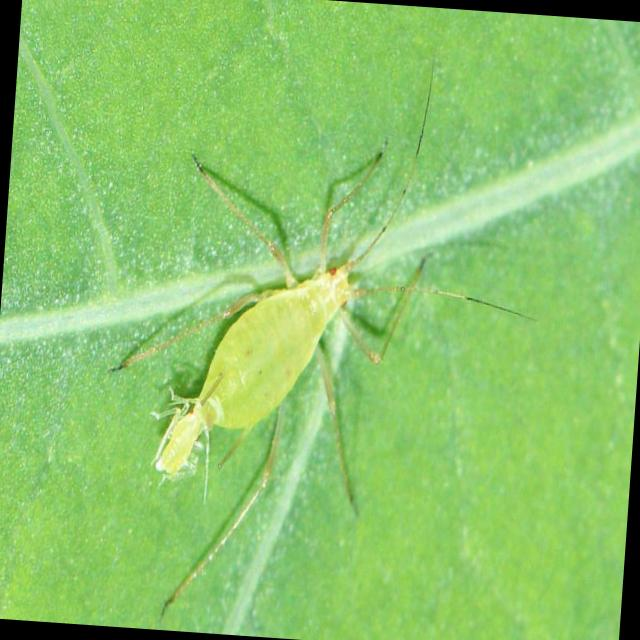Aphids: (86, 120, 491, 533), (142, 384, 213, 506)
